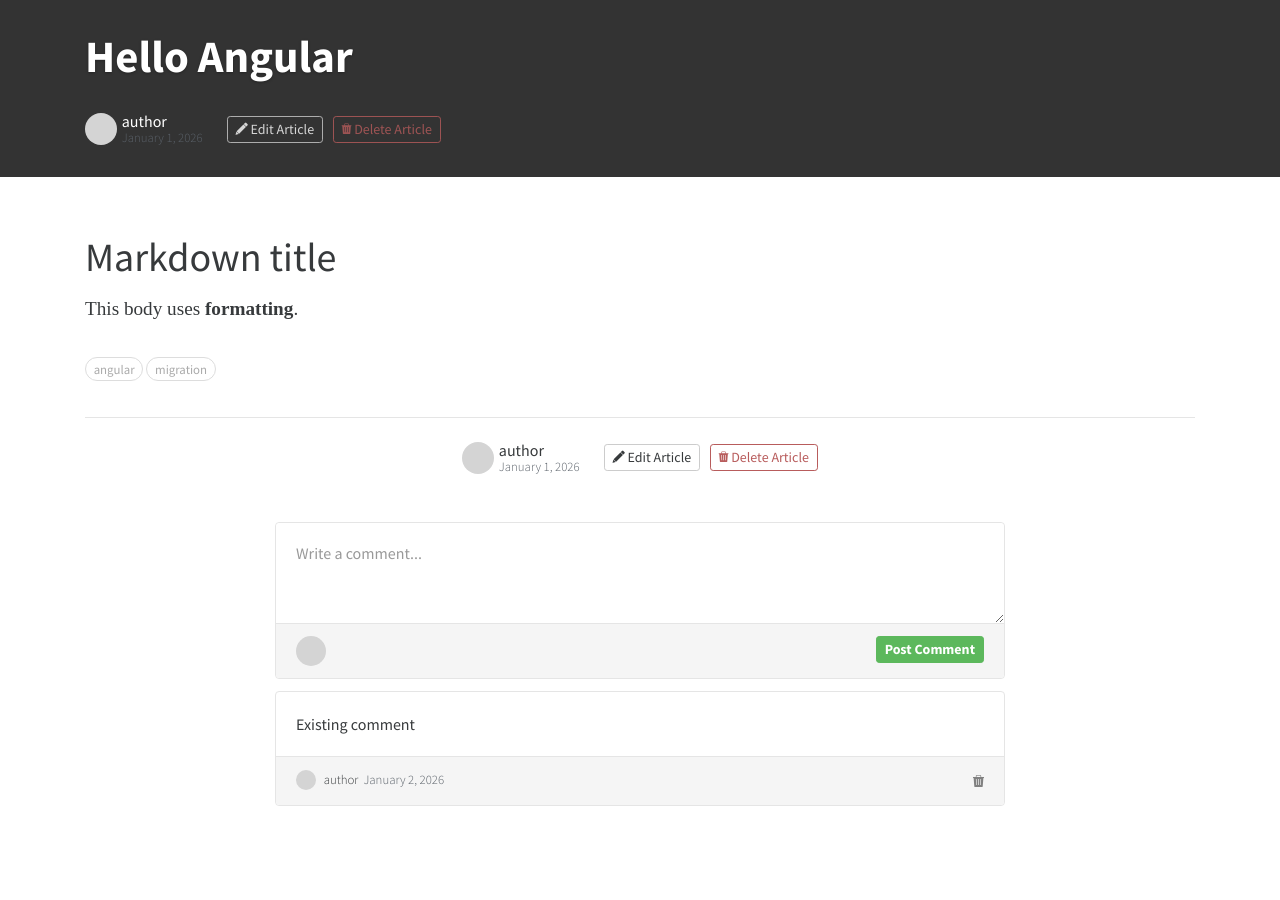
Test case: ArticleComponent › shows fallback error when comment fails with non-object error value
The image size is (1280, 900).
In the text box with placeholder "Write a comment...": (640,573) 276,523 -> 1004,623, type "My comment"
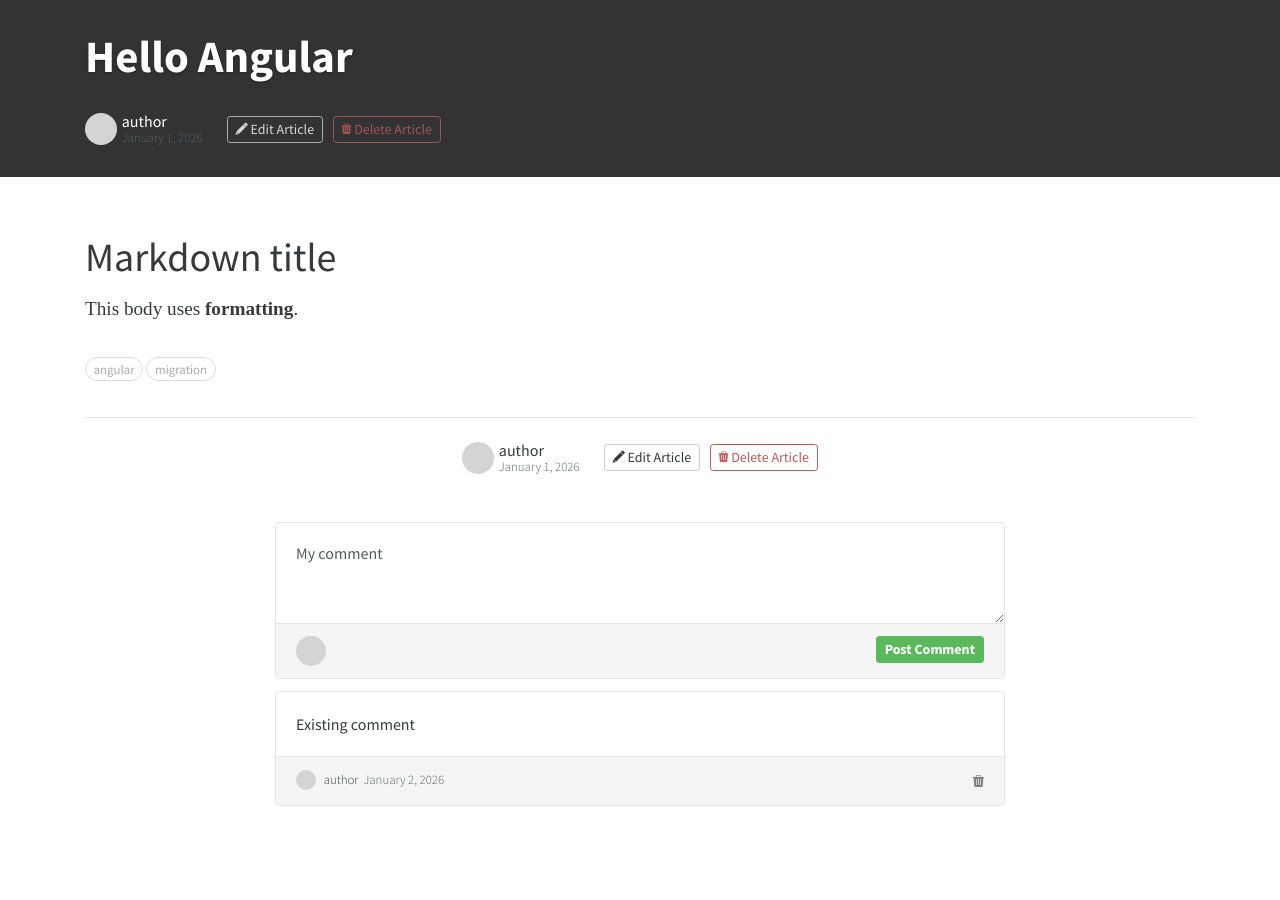
Submit the form with class "comment-form", box 275,522 -> 1005,679
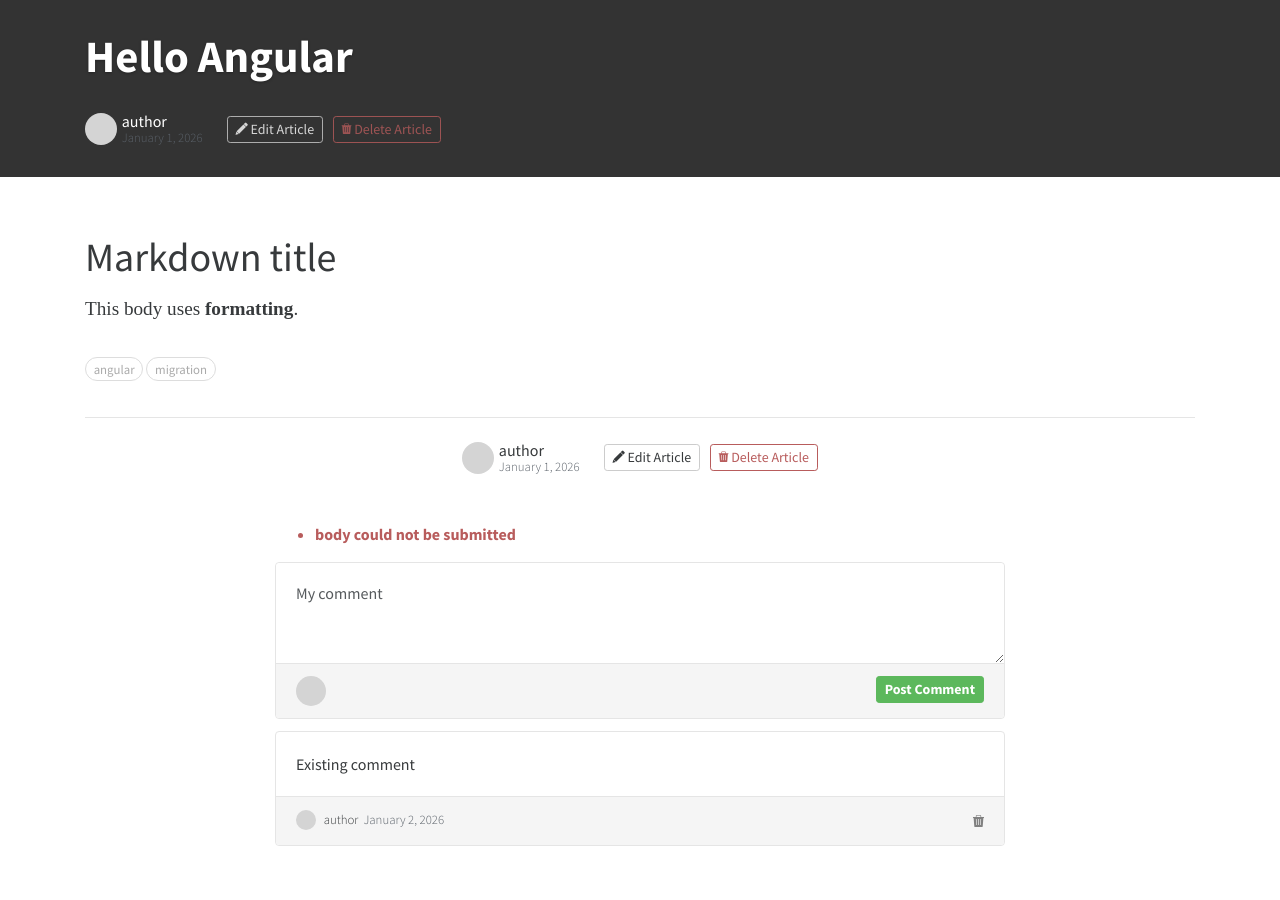
Now the text "could not be submitted" is shown, box 315,524 -> 516,544
